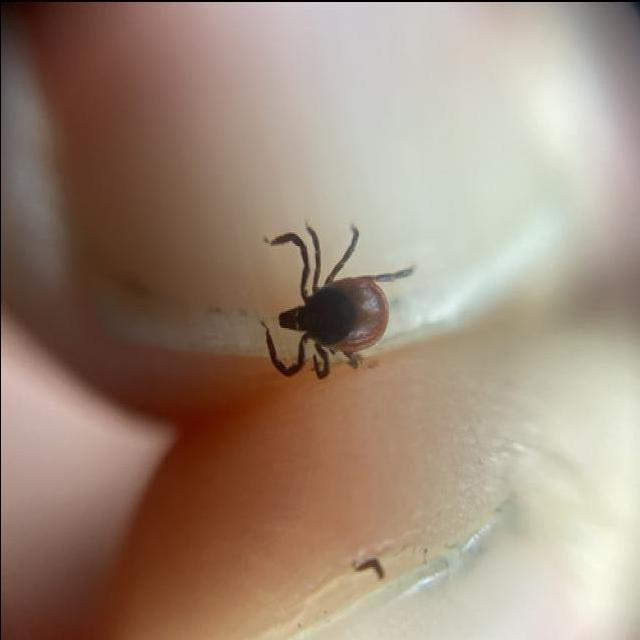Ixodes Ricinus-F: (255, 218, 407, 377)
